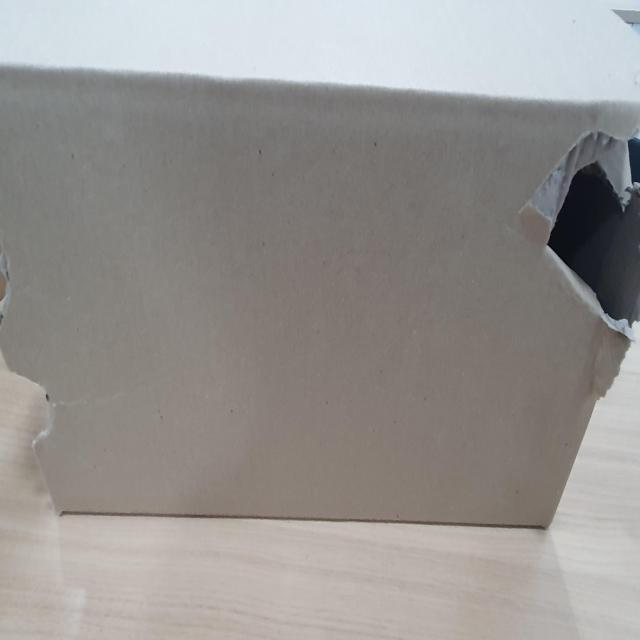damaged: (542, 129, 640, 341)
